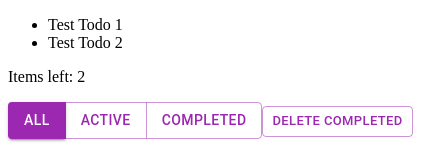
TodoList Component › deletes completed todos
Step 1. Click the button "Delete completed" → (338, 121), box left=262, top=106, right=413, bottom=137
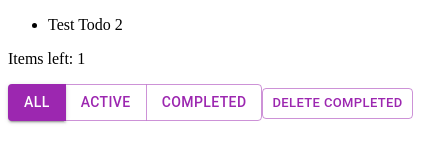
Expected: the list item "Test Todo 2" is shown, left=48, top=16, right=123, bottom=33
Now the list item "Test Todo 1" is gone
